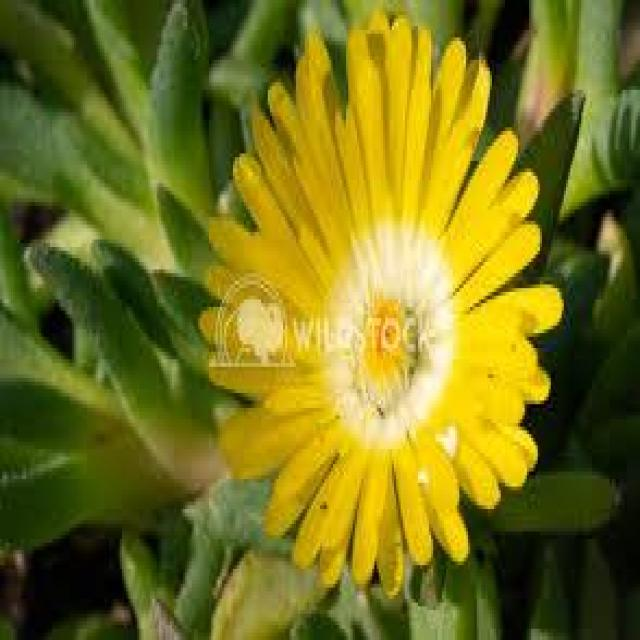organic waste: (200, 26, 549, 565)
